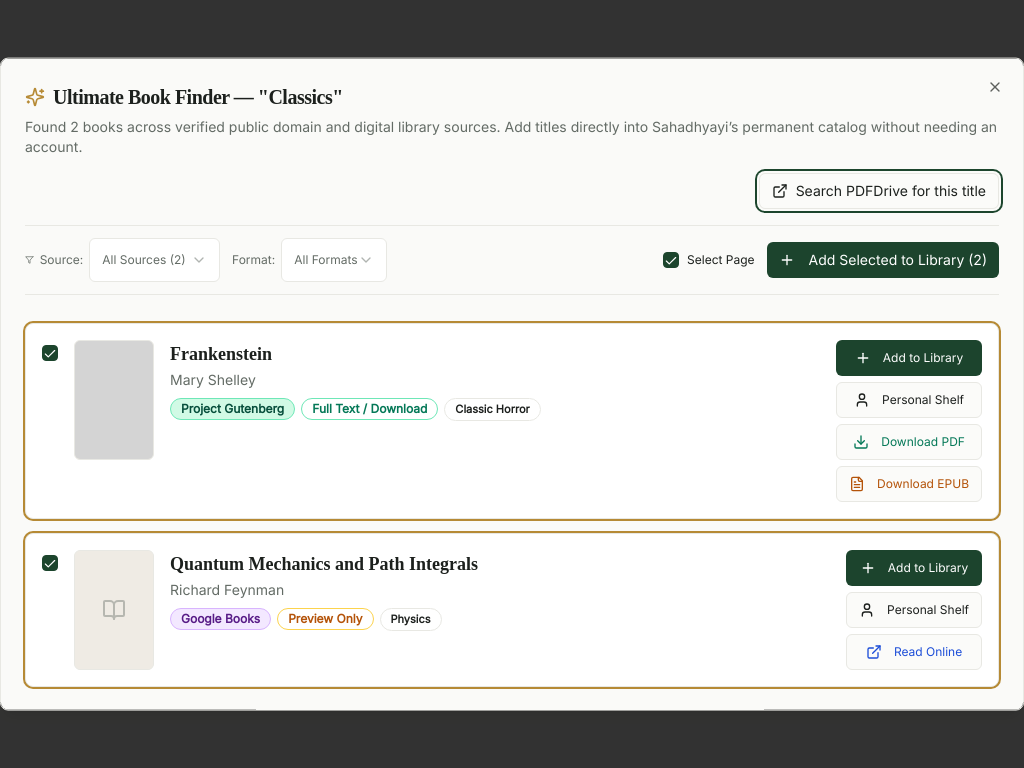
Scenario: BookSelectionModal UX & Provider Badges › displays per-book outcome statuses and allows single-book retry
What coordinates should you click on to do the following:
click the button "Add Selected to Library (2)"
I would click on:
 (883, 260)
Its box is left=767, top=242, right=999, bottom=278.
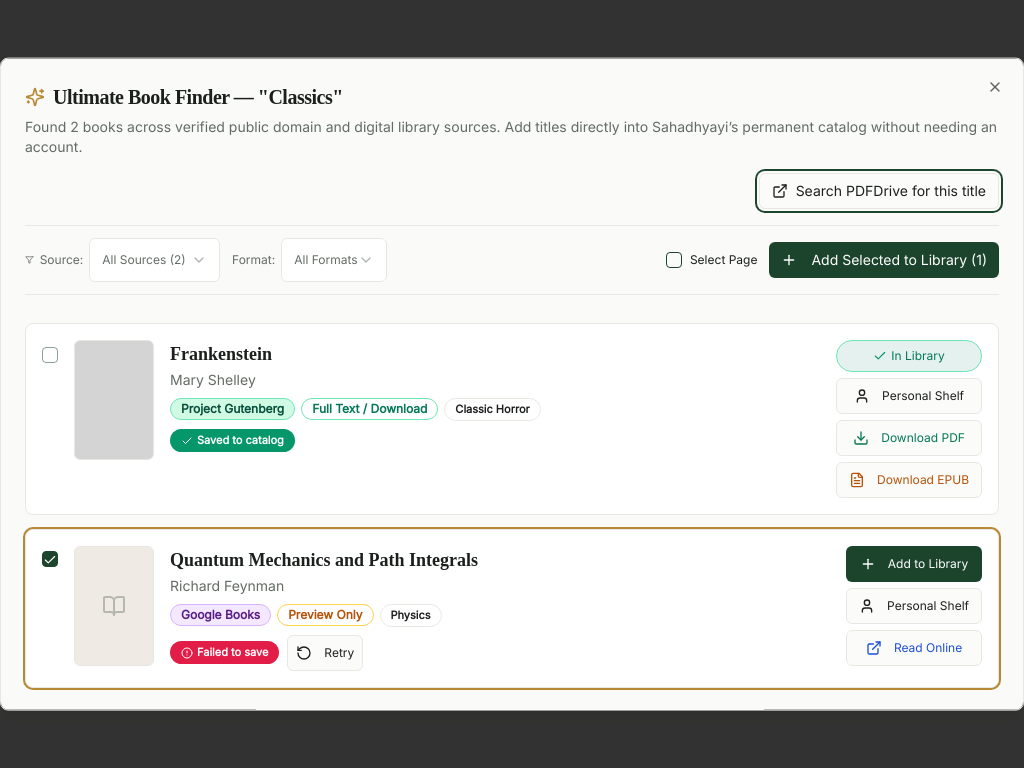
Expected: the text "Saved to catalog" is shown, left=170, top=429, right=295, bottom=451
Expected: the text "Failed to save" is shown, left=170, top=641, right=279, bottom=663
Expected: the button "Retry" is shown
What coordinates should you click on to do the following:
click the button "Retry"
I would click on:
 (325, 652)
Its box is left=287, top=634, right=363, bottom=670.
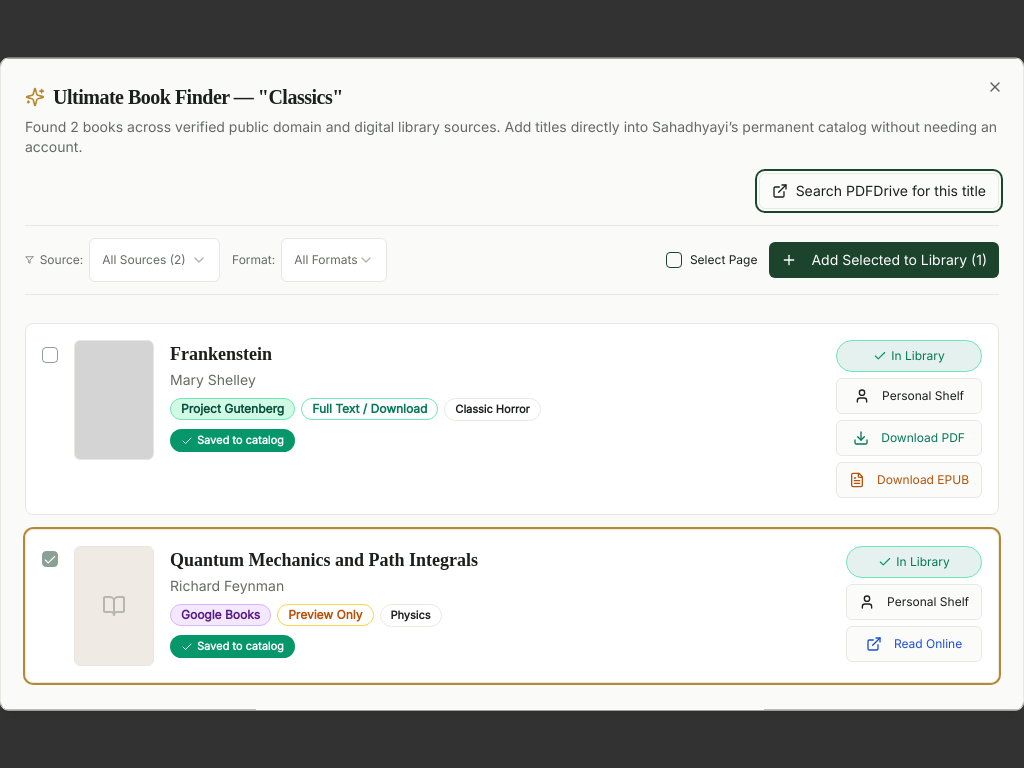
Expected: the text "Saved to catalog" is shown 2 times, left=170, top=429, right=295, bottom=451; left=170, top=635, right=295, bottom=657
